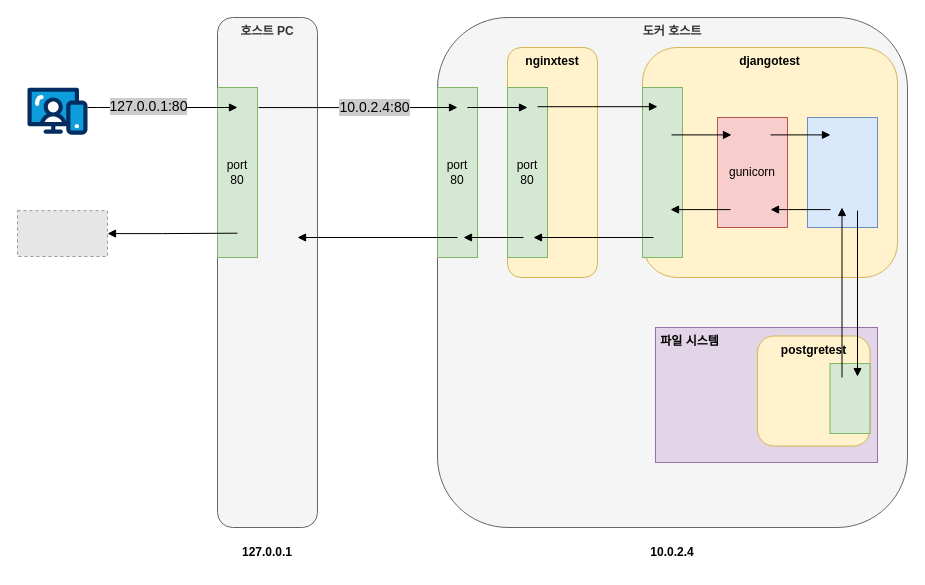
Image size: 925x585. Some labels were removed from this diagram. Grey dashed boxes stand in for pictures. The shapes that lost their labels are listed below. From the top down, each one's centre as x and y in pixels, then its label:
pixel 662 172: port 8000
pixel 842 172: myapp
pixel 849 398: port 5432
